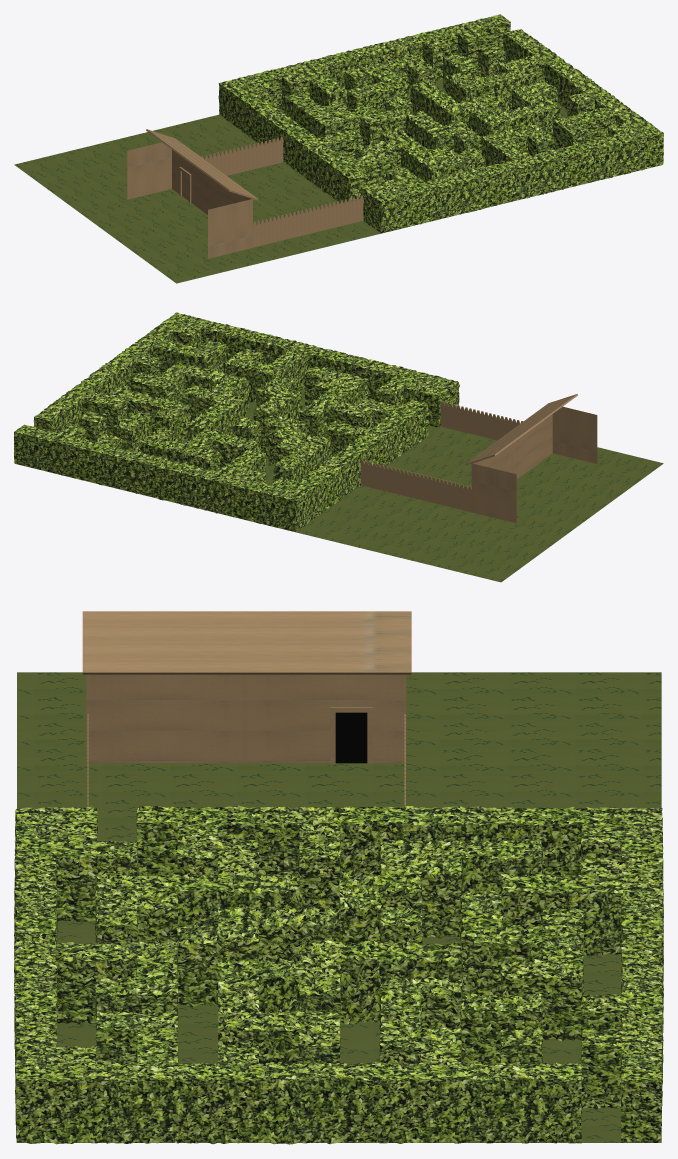
The model's file is Maze_env_3.glb.
The picture shows the model from 3 angles, top to bottom: view 1: azimuth 30°, elevation 25°; view 2: azimuth 150°, elevation 25°; view 3: azimuth 270°, elevation 25°; orthographic projection. The views are drawn at different scales.
Parts seen in each view (by area): view 1: Cube.003; view 2: Cube.003; view 3: Cube.003.
Part boxes in pixels (bbox=[...]): Cube.003: bbox=[14, 14, 663, 283]; Cube.003: bbox=[14, 312, 663, 582]; Cube.003: bbox=[14, 611, 663, 1144].
Bounding box in the file's own units: 40.56 × 5.22 × 23.59.
5 materials, 4 textured.
